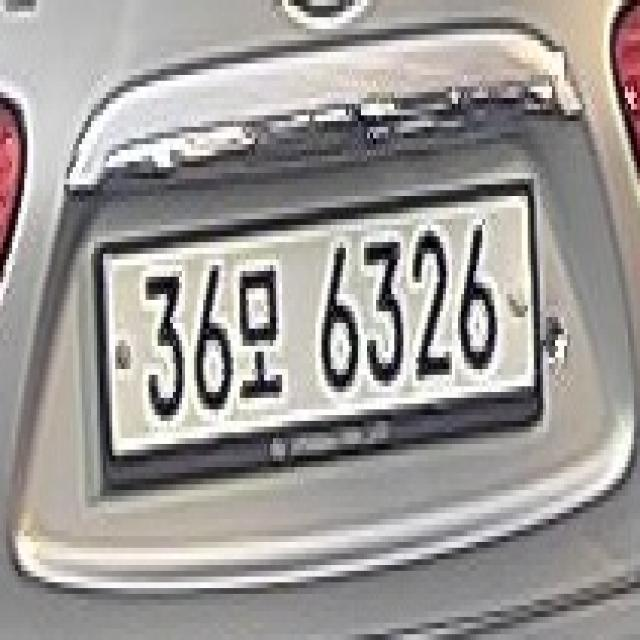2: (406, 225, 455, 386)
3: (361, 236, 409, 392), (143, 265, 185, 421)
6: (455, 225, 497, 375), (318, 242, 358, 392), (194, 265, 234, 415)
license_plate: (91, 178, 540, 478)
mo: (234, 265, 285, 404)
